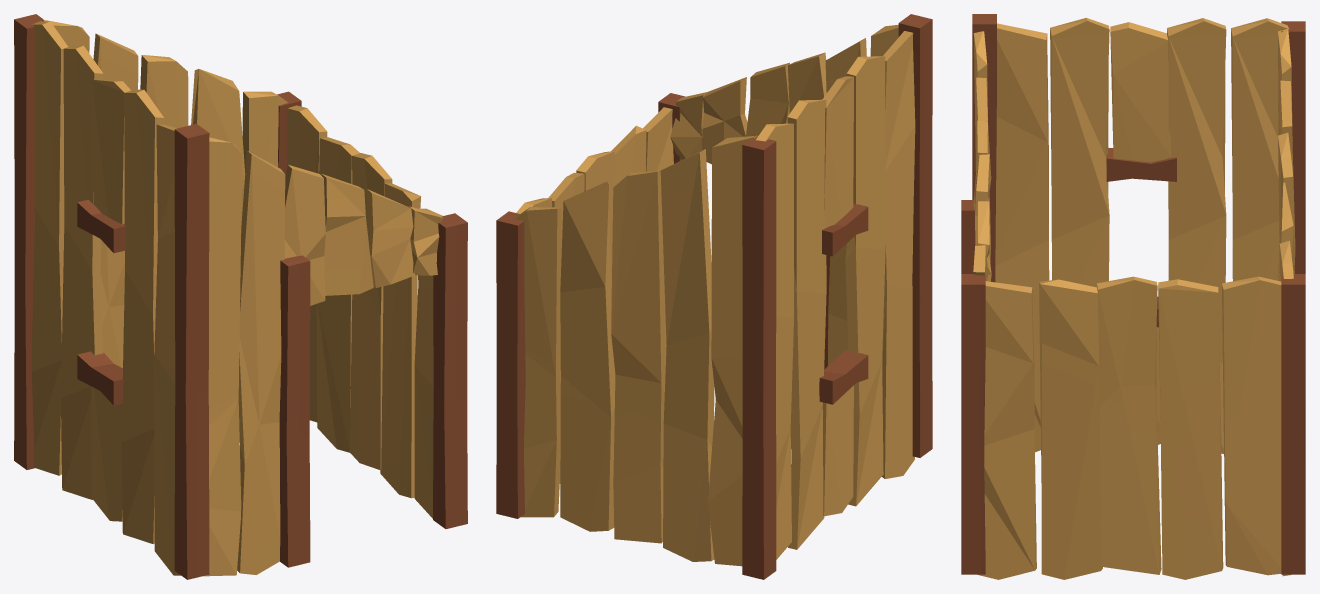
Rendered from Bare House .fbx.
The picture shows the model from 3 angles, left to right: view 1: azimuth 30°, elevation 25°; view 2: azimuth 150°, elevation 25°; view 3: azimuth 270°, elevation 25°; orthographic projection. The views are drawn at different scales.
Visible parts, largest first — view 1: Bare House; view 2: Bare House; view 3: Bare House.
Part boxes in pixels (bbox=[...]): Bare House: bbox=[14, 14, 467, 579]; Bare House: bbox=[496, 14, 932, 579]; Bare House: bbox=[961, 14, 1305, 579].
Size of the model in its own units: 168 by 263 by 186.
